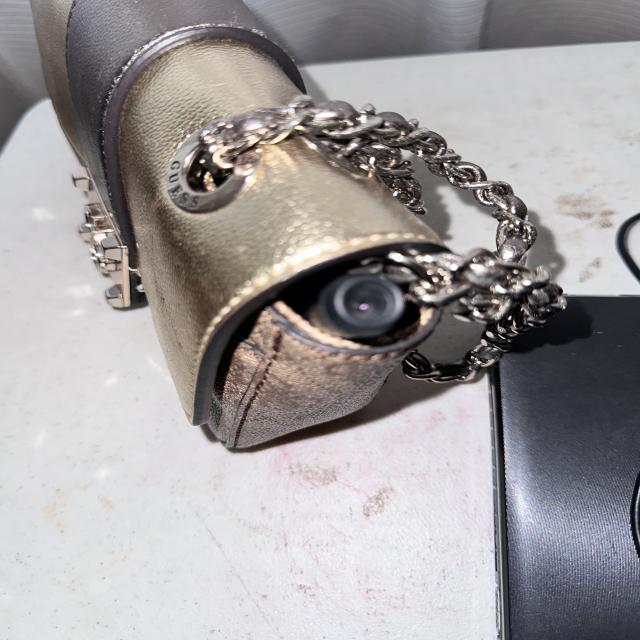hidden camera: (336, 276, 406, 327)
